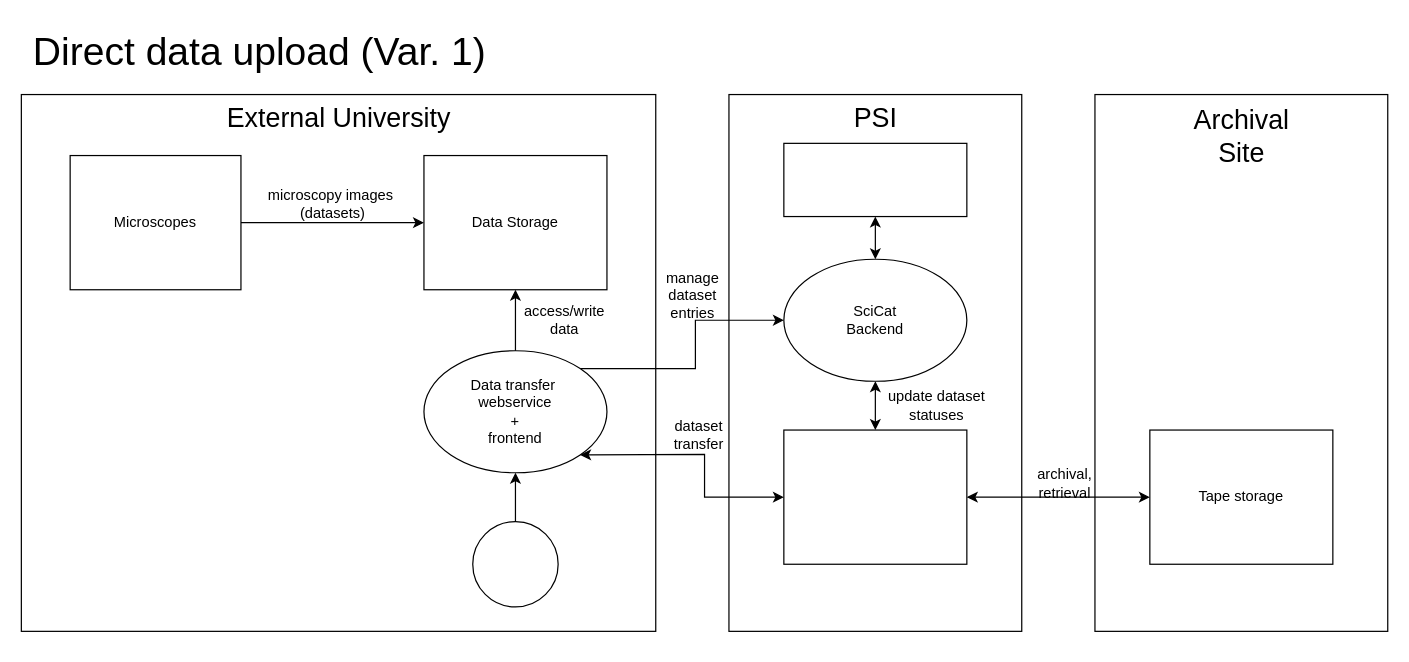
The diagram is 1409 pixels wide and 662 high, and some of its shapes have lost their labels. The shapes that lost their labels are listed below. From the top down, each one's box as (x1, y1, x2, y2) in pixels, then its label:
(783, 142, 967, 217): SC Database
(783, 429, 967, 564): Data Cache
(472, 520, 558, 607): User
